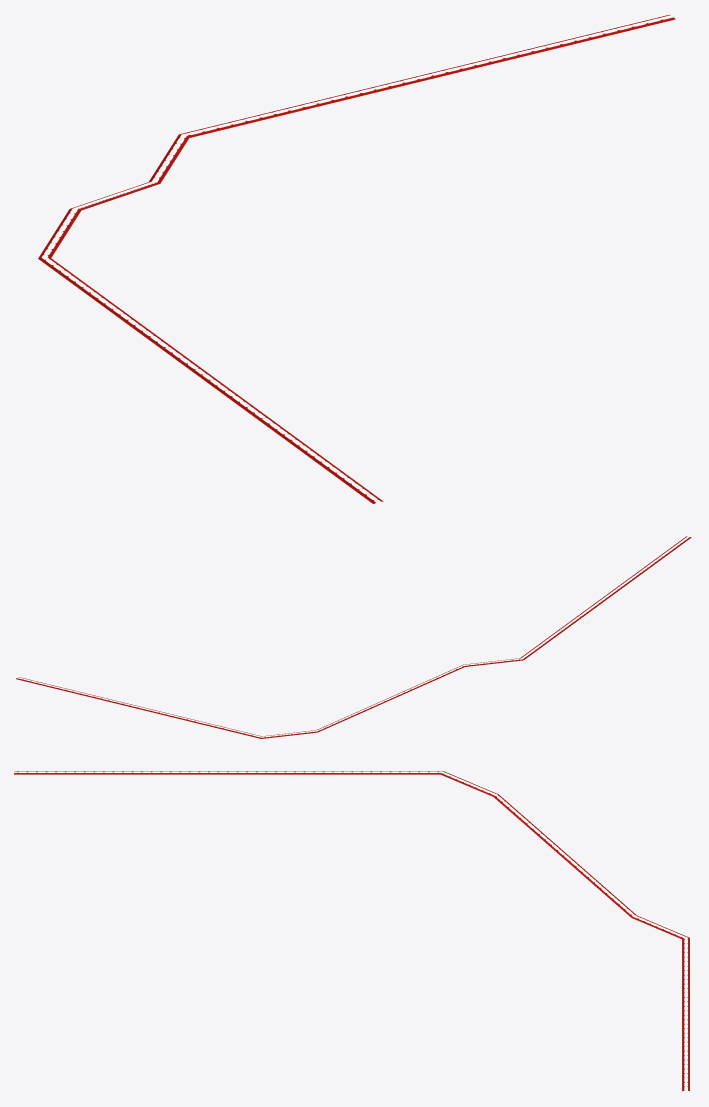
File: UnlockPipe_5.fbx
The picture shows the model from 3 angles, top to bottom: view 1: azimuth 30°, elevation 25°; view 2: azimuth 150°, elevation 25°; view 3: azimuth 270°, elevation 25°; orthographic projection. The views are drawn at different scales.
Visible parts, largest first — view 1: polySurface5970; view 2: polySurface5970; view 3: polySurface5970.
Boxes of the visible parts, x1,y1,x2,y2 form: polySurface5970: (38, 14, 675, 503); polySurface5970: (16, 536, 691, 738); polySurface5970: (14, 771, 689, 1091).
Bounding box in the file's own units: 35.53 × 4.15 × 39.4.
1 material, 1 textured.
